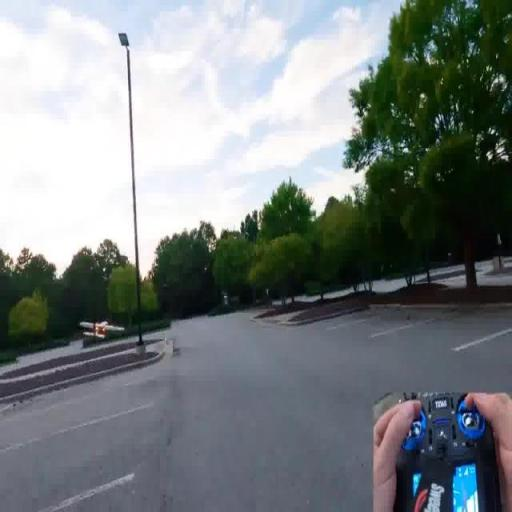uav: (79, 314, 129, 348)
